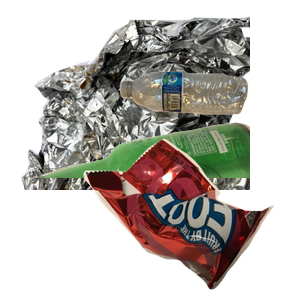glass: (23, 120, 263, 300)
metal: (19, 14, 259, 194)
plastic: (118, 69, 300, 176)
trash: (81, 136, 300, 300)
